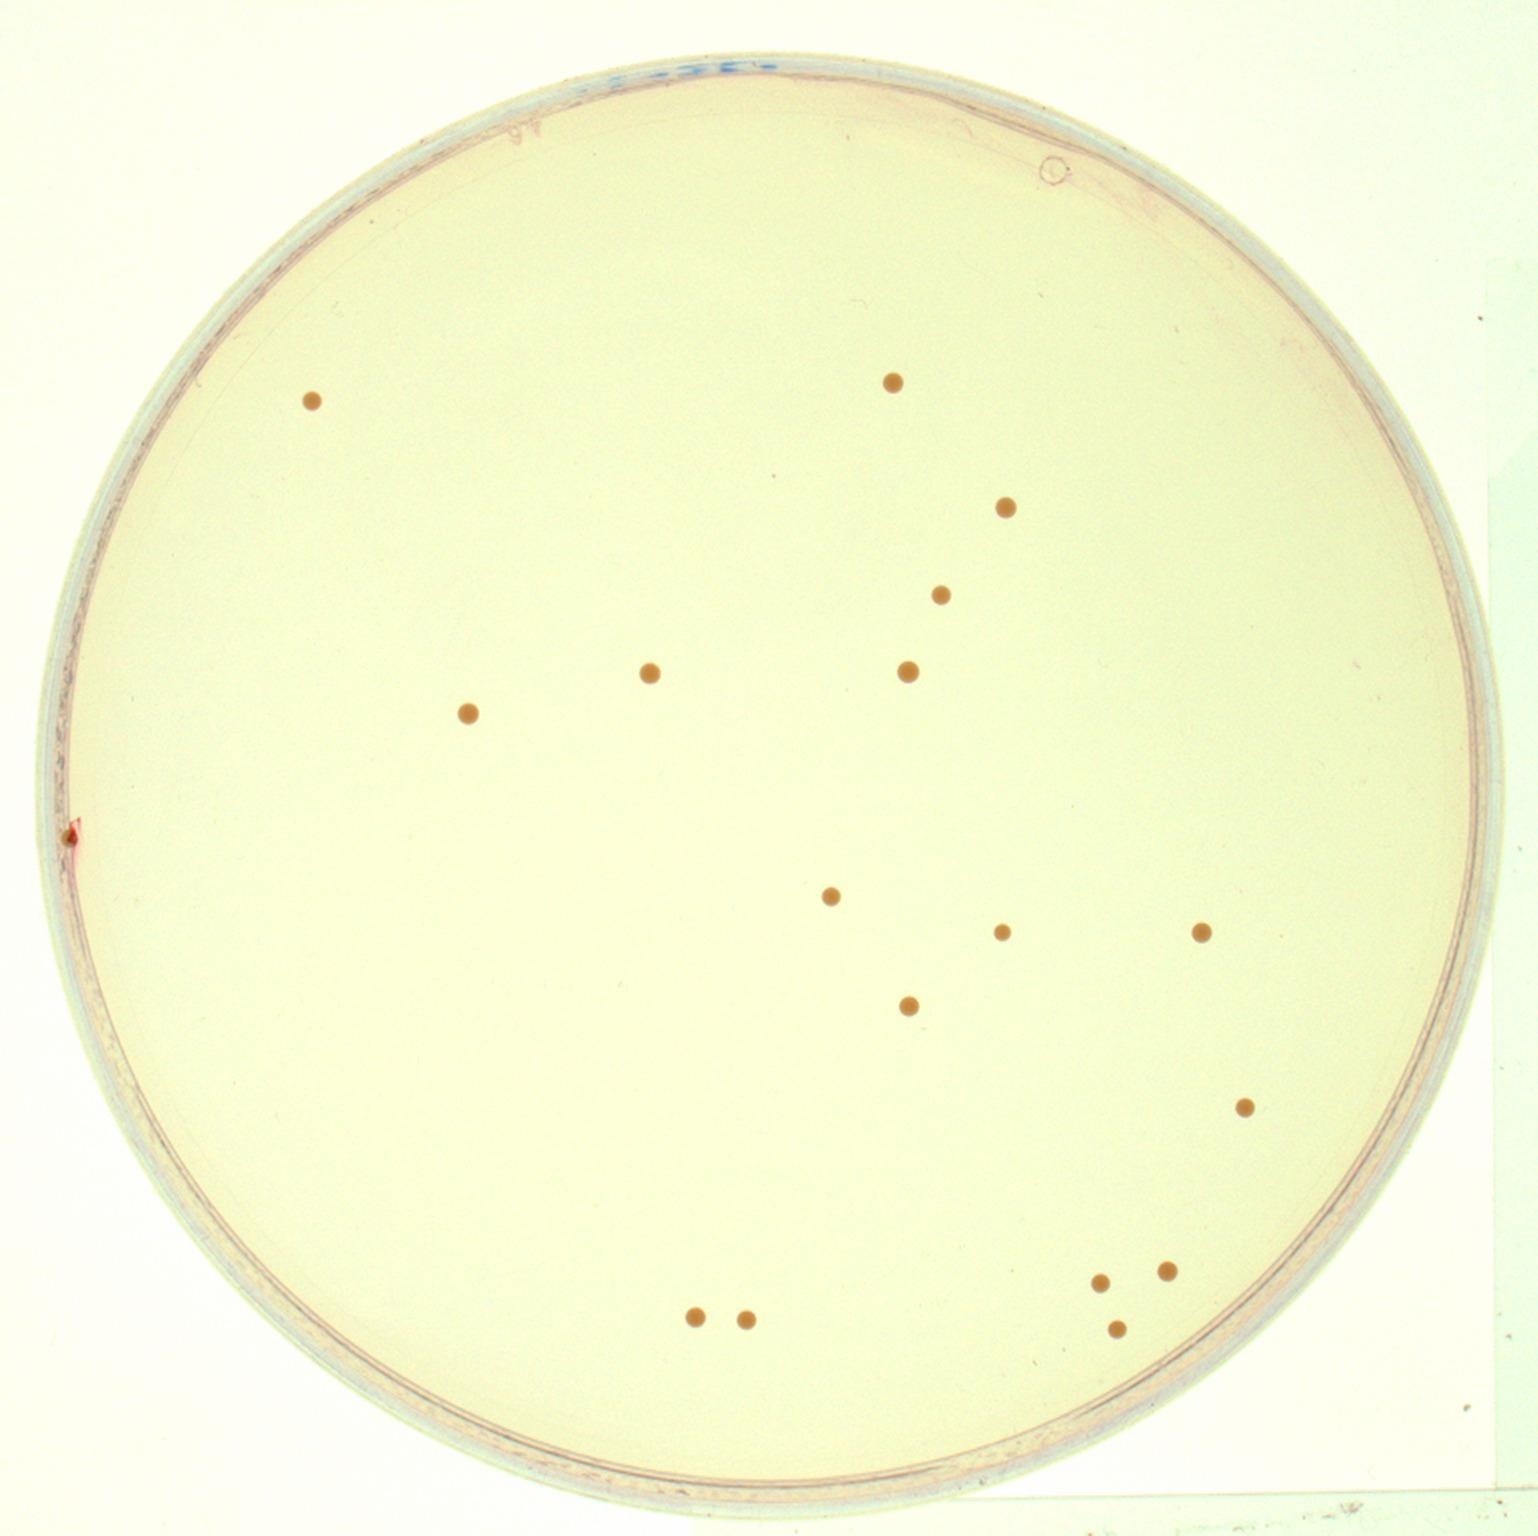colony: (891, 655, 926, 691), (1185, 916, 1219, 951), (678, 1301, 709, 1332), (1231, 1093, 1261, 1122), (730, 1305, 761, 1333), (1102, 1311, 1129, 1342), (894, 994, 923, 1021), (453, 700, 480, 730), (1152, 1256, 1179, 1286), (816, 883, 844, 910), (300, 385, 326, 414), (1085, 1270, 1113, 1297), (637, 658, 661, 689), (927, 582, 954, 609), (993, 494, 1017, 522), (879, 370, 905, 395), (992, 921, 1013, 944)
